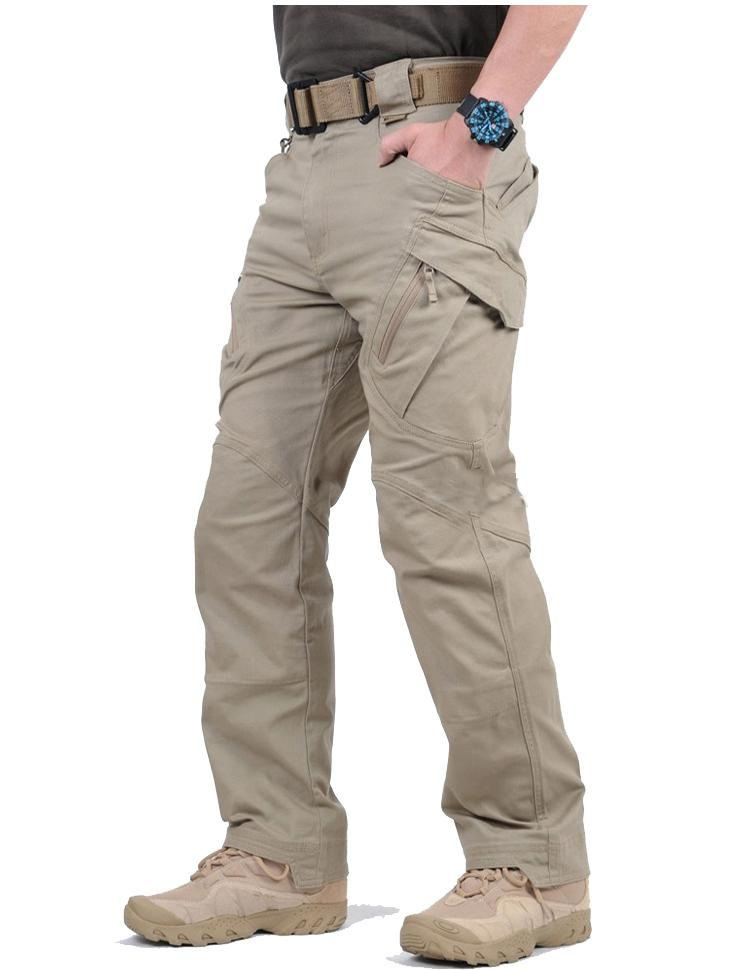pants: (195, 59, 594, 888)
